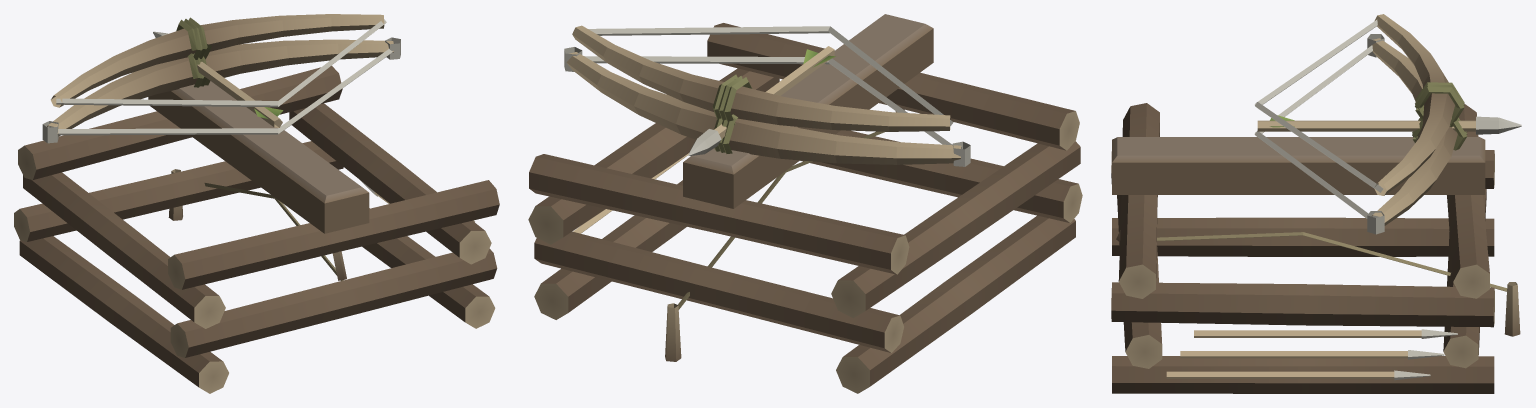
The model's file is set_crossbow_2_a.glb.
3 views of the same model, side by side, from view 1: azimuth 30°, elevation 25°; view 2: azimuth 150°, elevation 25°; view 3: azimuth 270°, elevation 25° (orthographic). The views are drawn at different scales.
Visible parts, largest first — view 1: Base, Bow, String, Bolt; view 2: Base, Bow, String, Bolt; view 3: Base, Bow, String, Bolt.
Part boxes in pixels (left/top/right/bottom): Base: left=14, top=65, right=499, bottom=393; Bow: left=42, top=14, right=400, bottom=143; String: left=56, top=19, right=392, bottom=135; Bolt: left=153, top=31, right=283, bottom=127; Base: left=528, top=14, right=1082, bottom=393; Bow: left=564, top=25, right=970, bottom=166; String: left=584, top=26, right=953, bottom=145; Bolt: left=688, top=46, right=835, bottom=155; Base: left=1111, top=103, right=1520, bottom=393; Bow: left=1367, top=14, right=1467, bottom=234; String: left=1254, top=19, right=1383, bottom=218; Bolt: left=1257, top=115, right=1521, bottom=134.
Bounding box in the file's own units: 0.9562 × 0.5786 × 0.9015.
